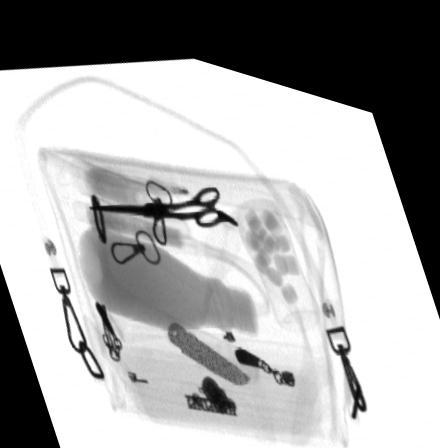Knife: (168, 310, 252, 370)
Scissors: (87, 172, 239, 217)
